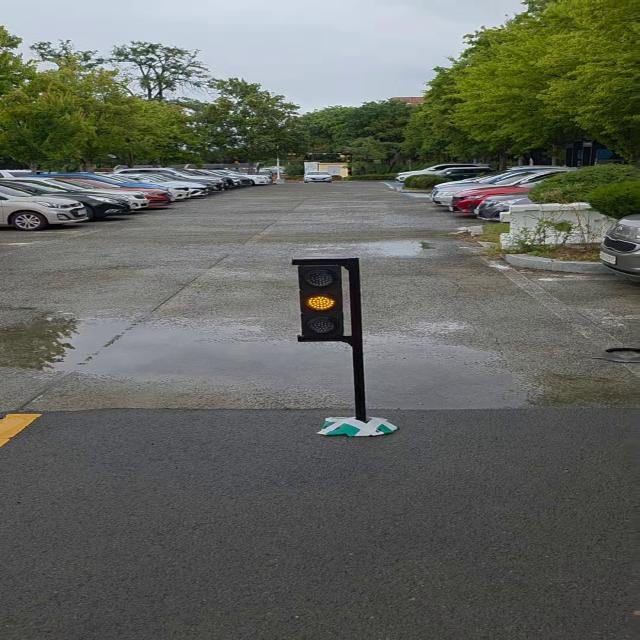yellow: (290, 262, 362, 345)
